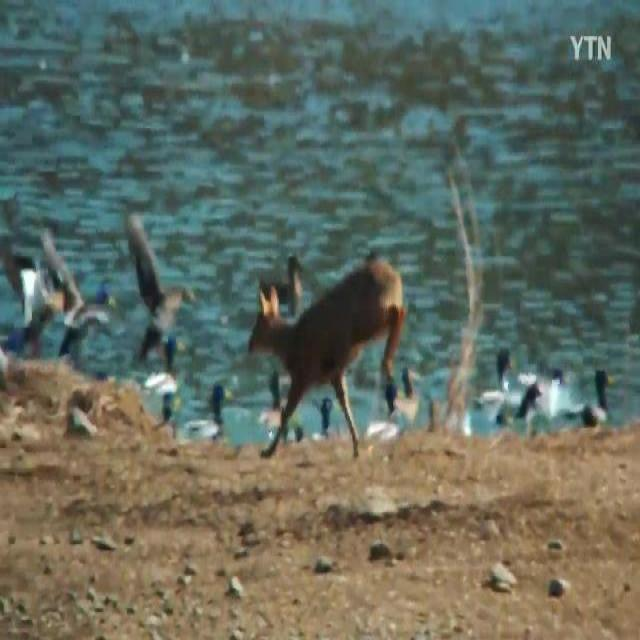deer: (248, 254, 404, 462)
